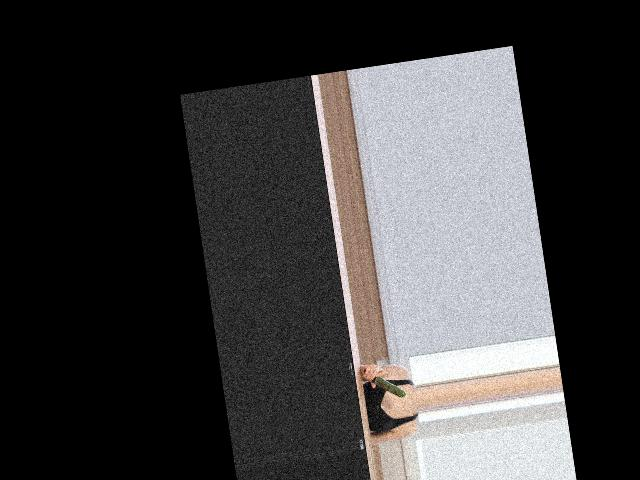cucumber: (362, 363, 407, 402)
